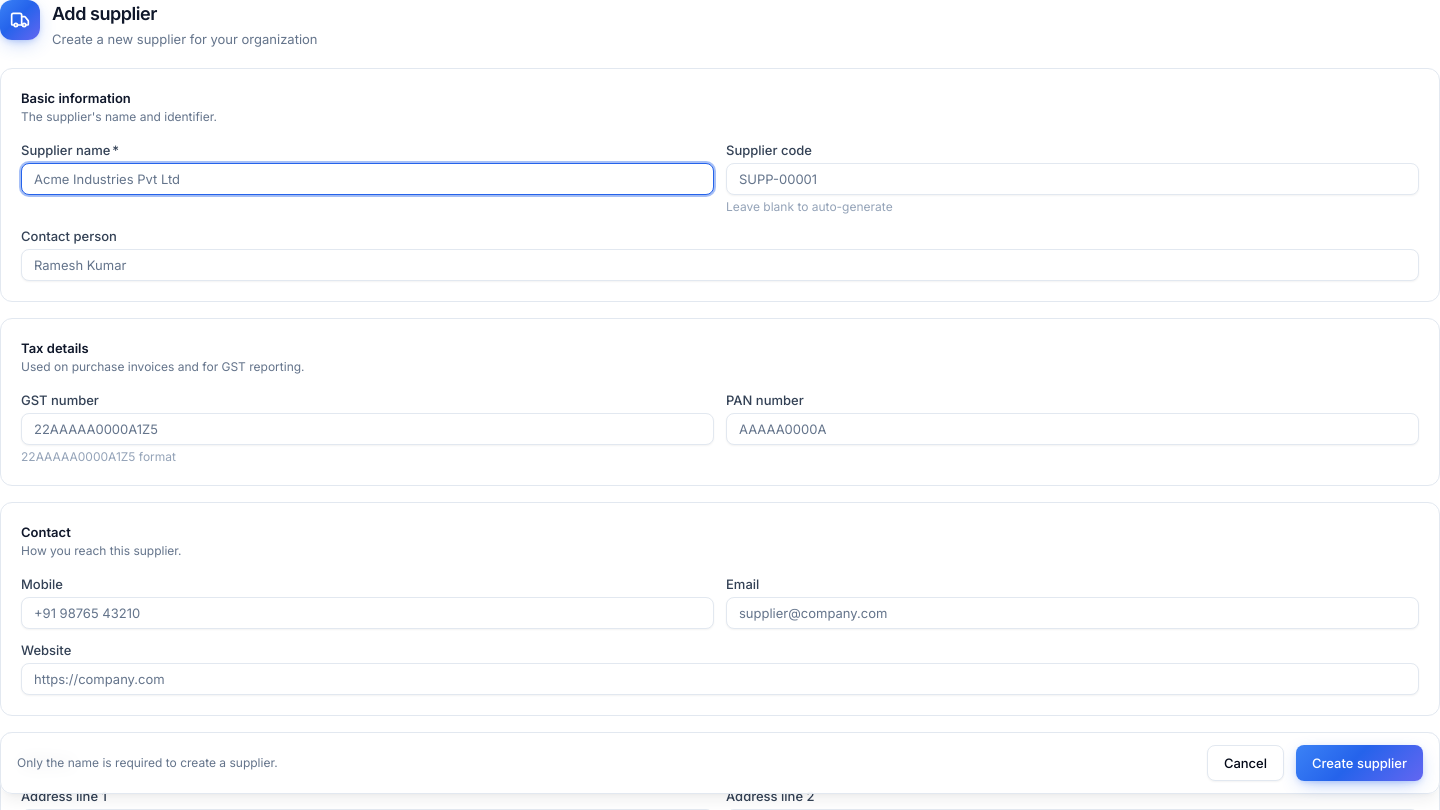
Scenario: SupplierForm (create) › displays a server error returned by the action
Type "Acme Industries" into the field labelled "Supplier name*" at (368,179), box left=21, top=163, right=714, bottom=195
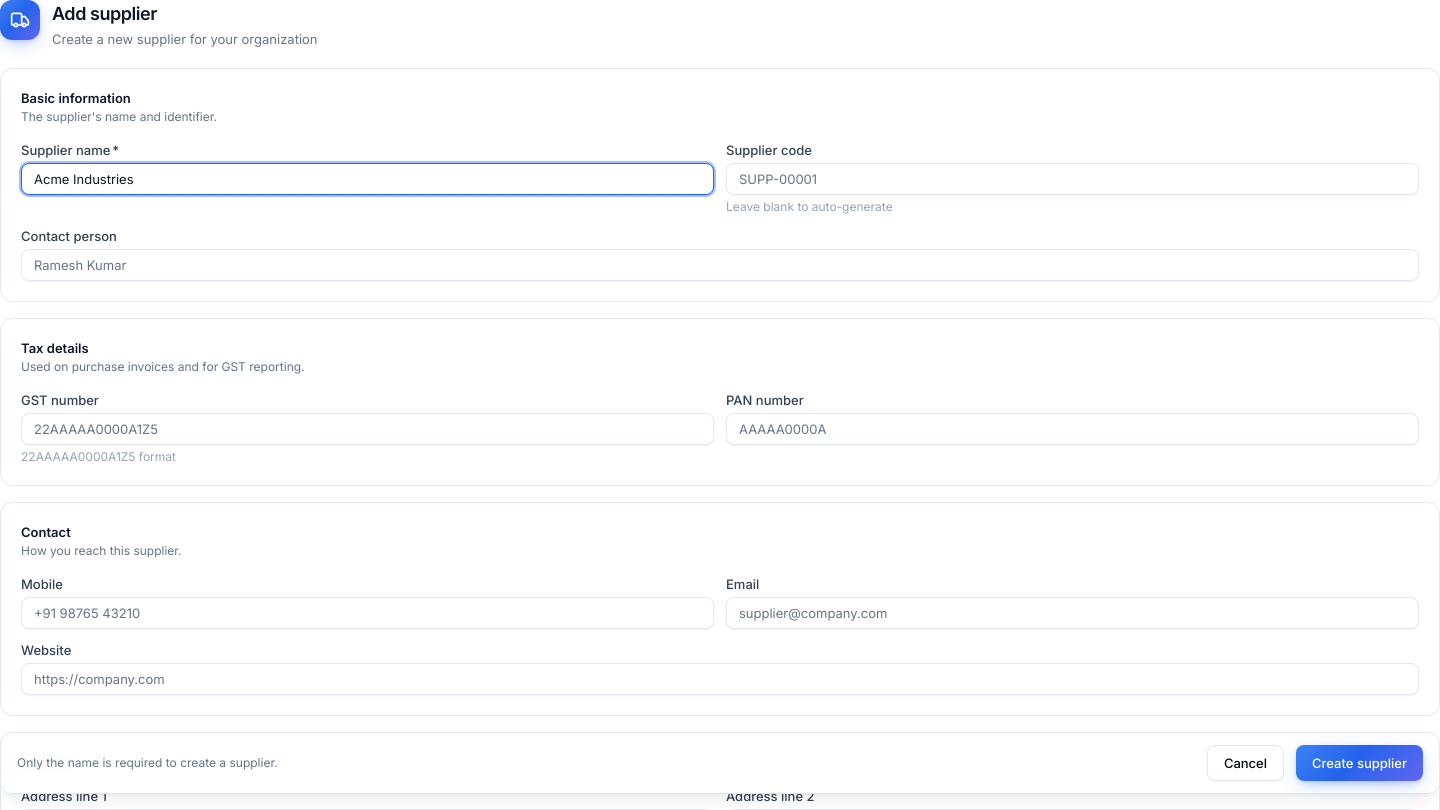
Click the button "Create supplier" at (1360,763), box left=1296, top=745, right=1423, bottom=781
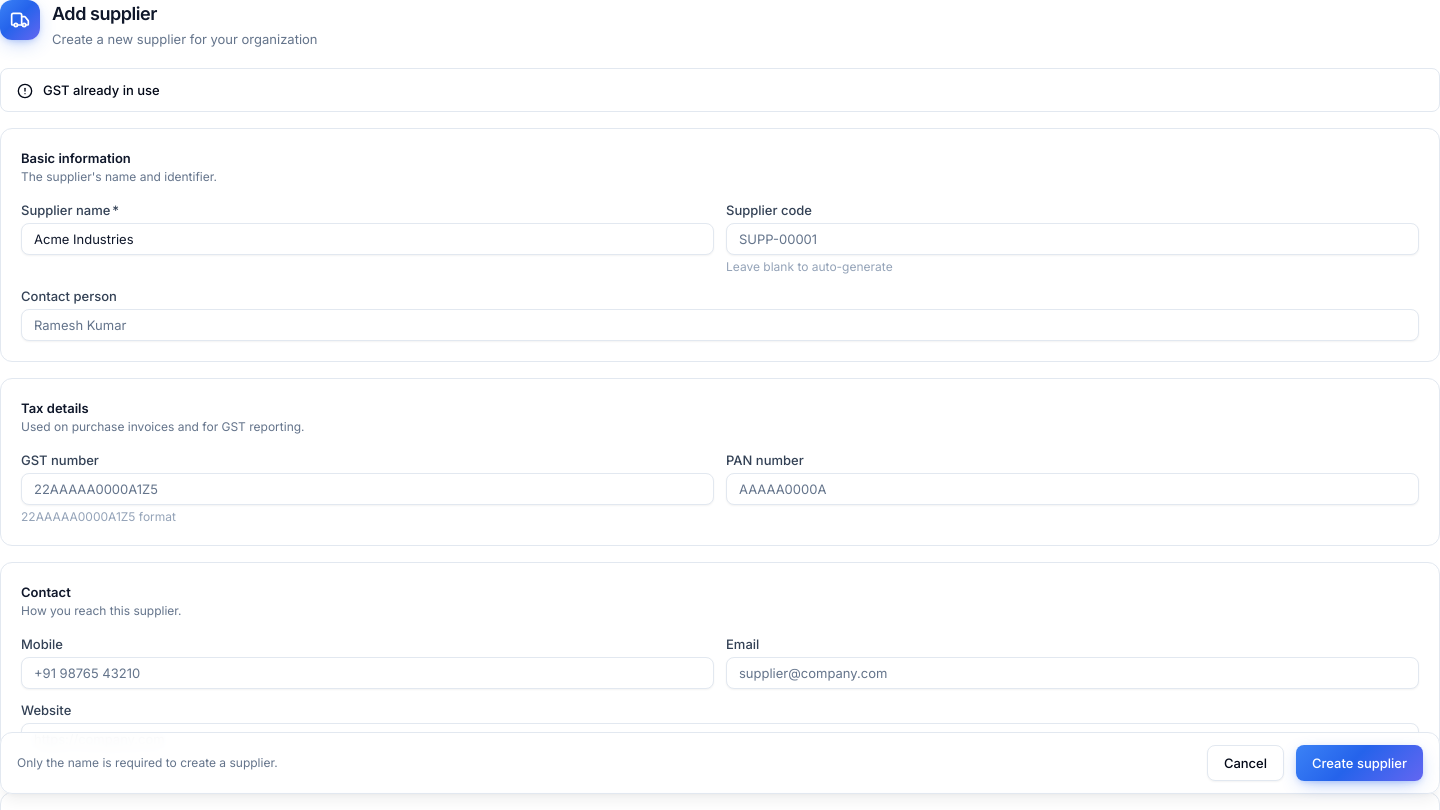
Expected: the text "GST already in use" is shown, left=43, top=81, right=160, bottom=99
